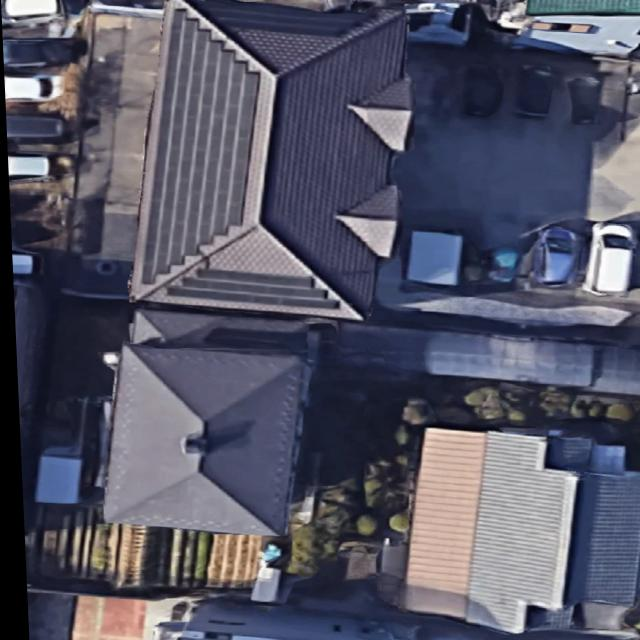Batiment: (126, 0, 412, 320), (97, 344, 303, 535), (398, 428, 572, 632), (559, 471, 640, 606)
